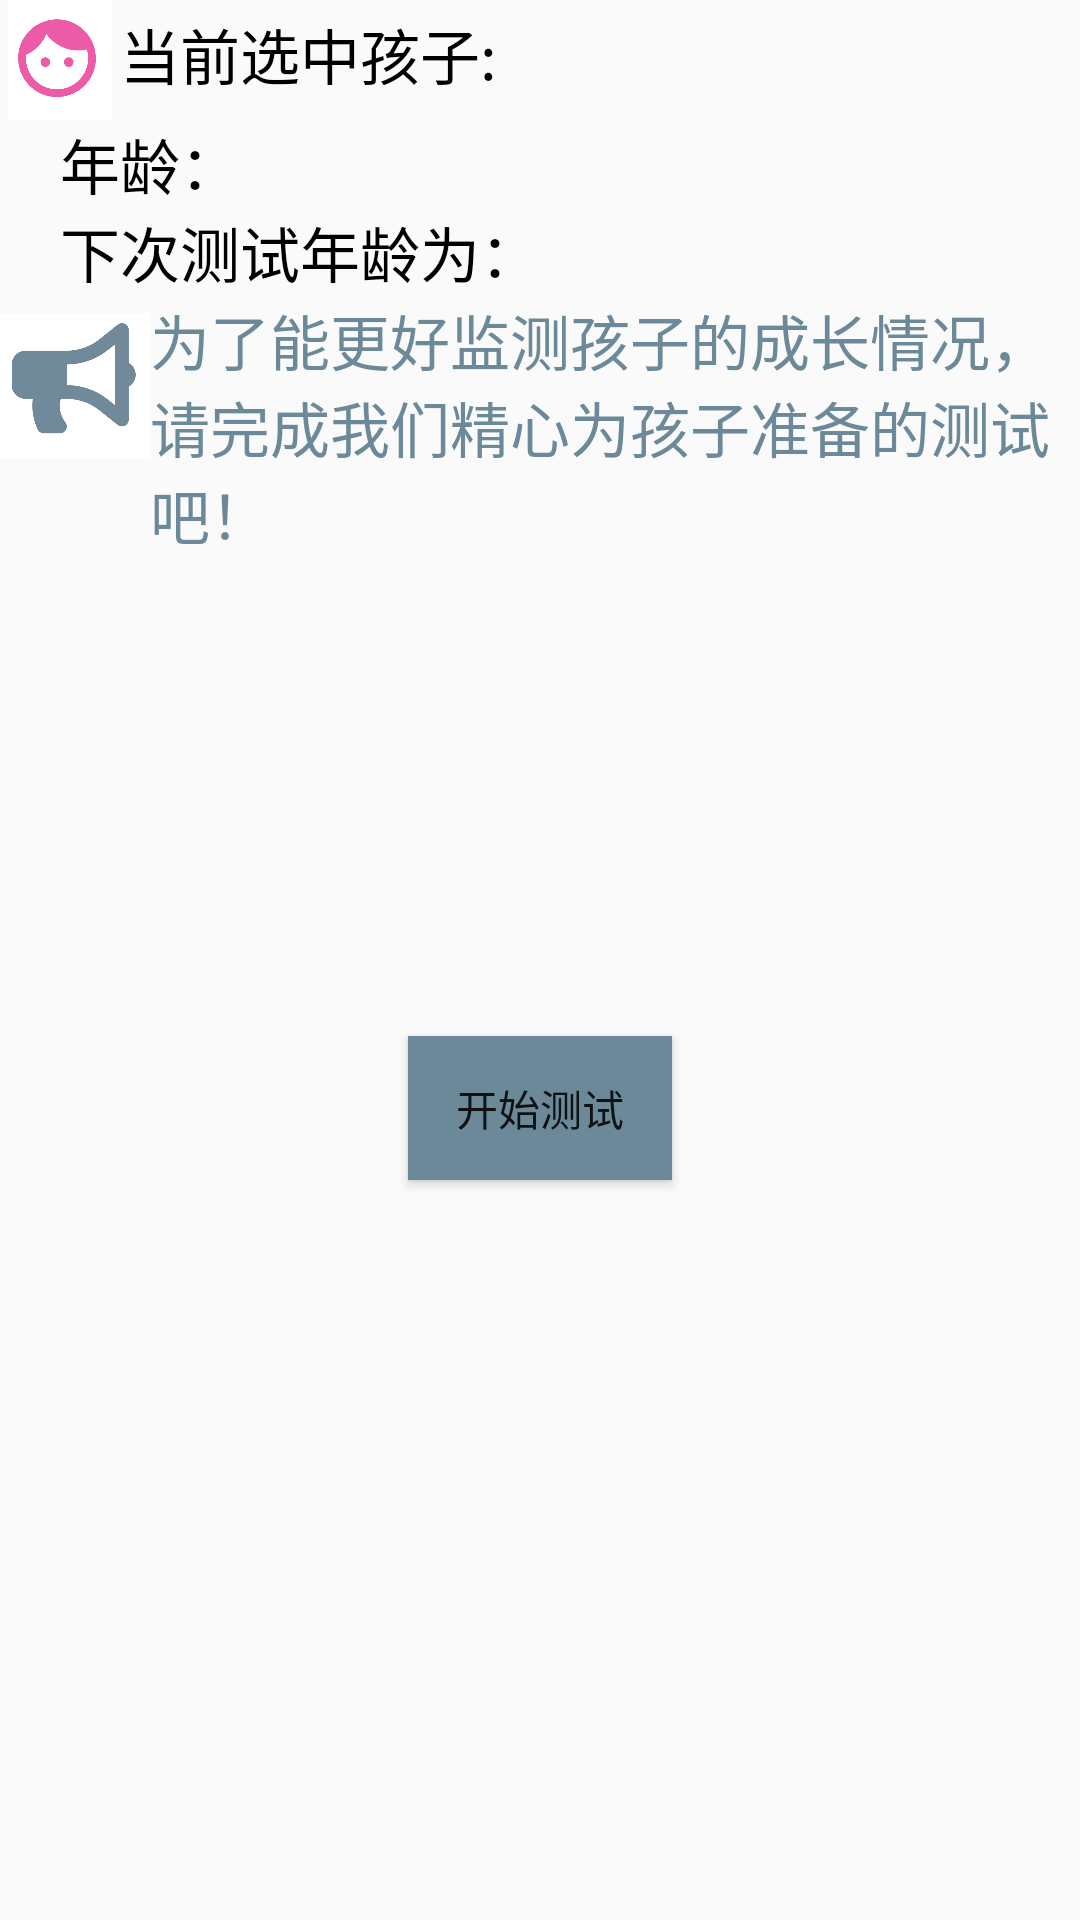

Screen size 1080x1920. Icon name, then its center in pixels as (x=x, y=y):
girl: (x=57, y=58)
